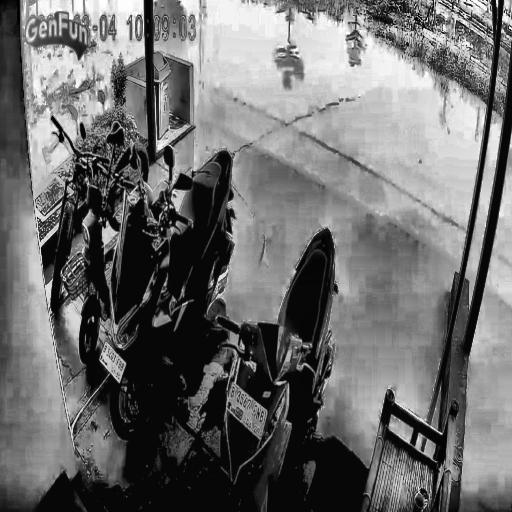banjir: (171, 0, 484, 461), (461, 156, 512, 511)
